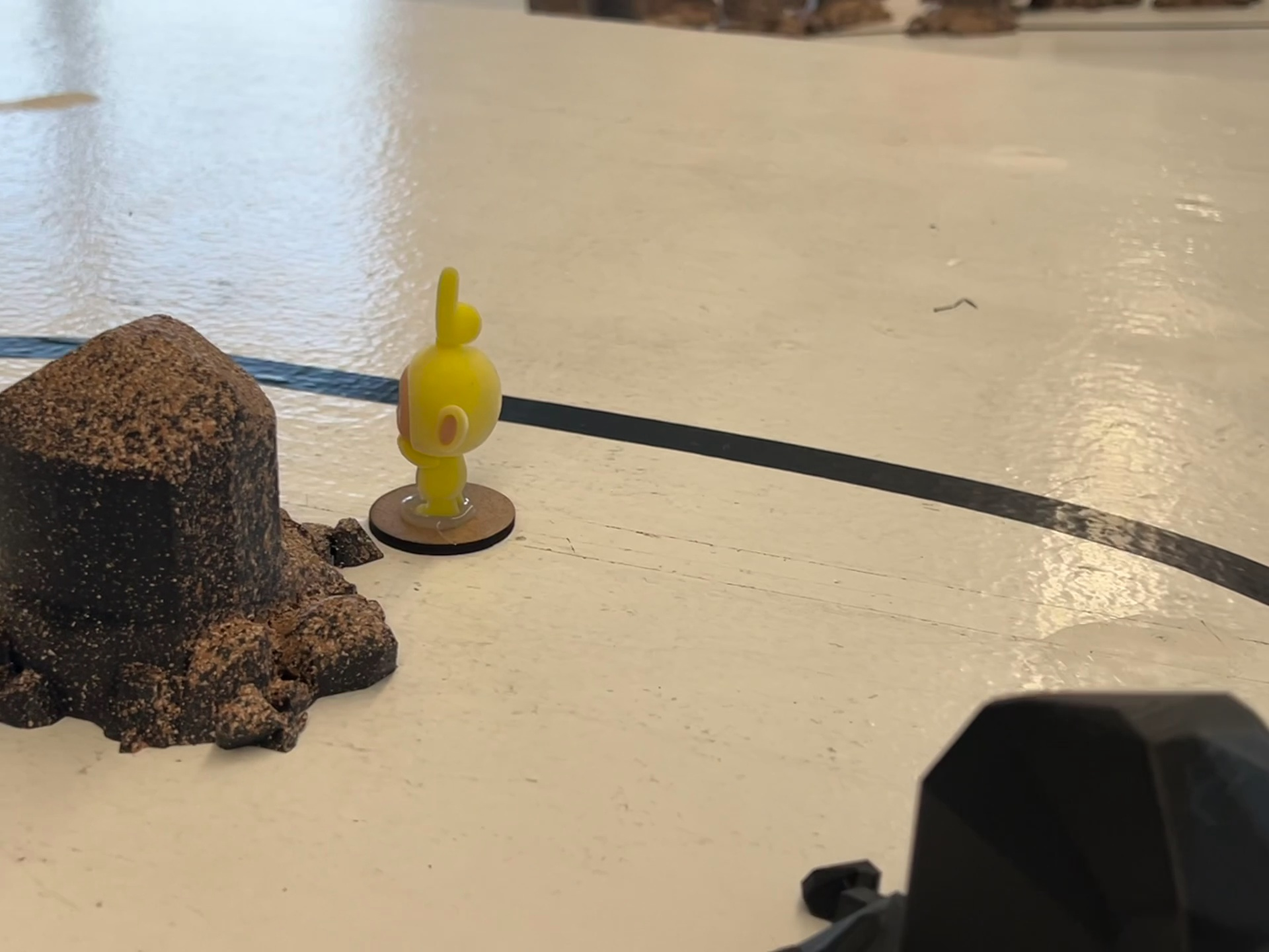teletubby: (397, 268, 502, 524)
